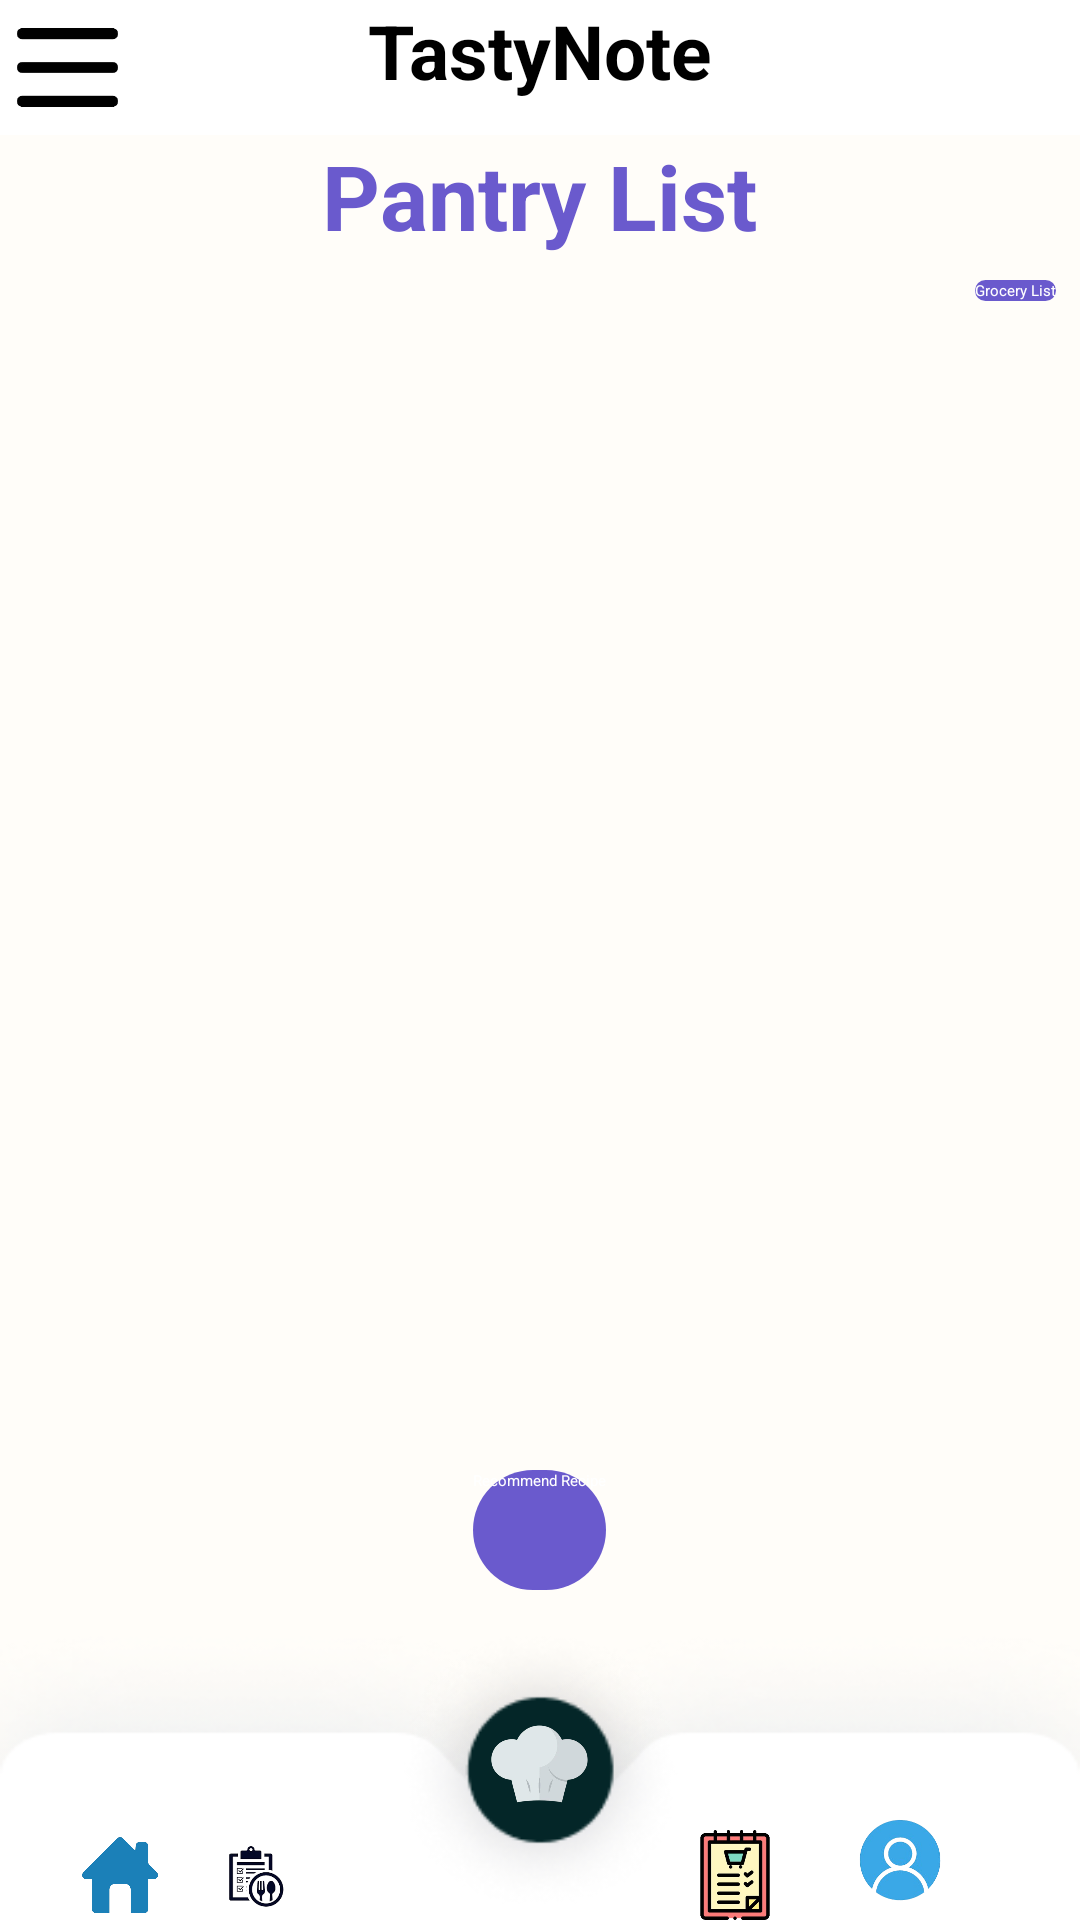

Icons on this 1080x1920 Android screen, each with its box as box=[x1, y1, x2, y2]:
chef hat: box=[465, 1696, 614, 1833]
grocery list: box=[700, 1830, 770, 1920]
